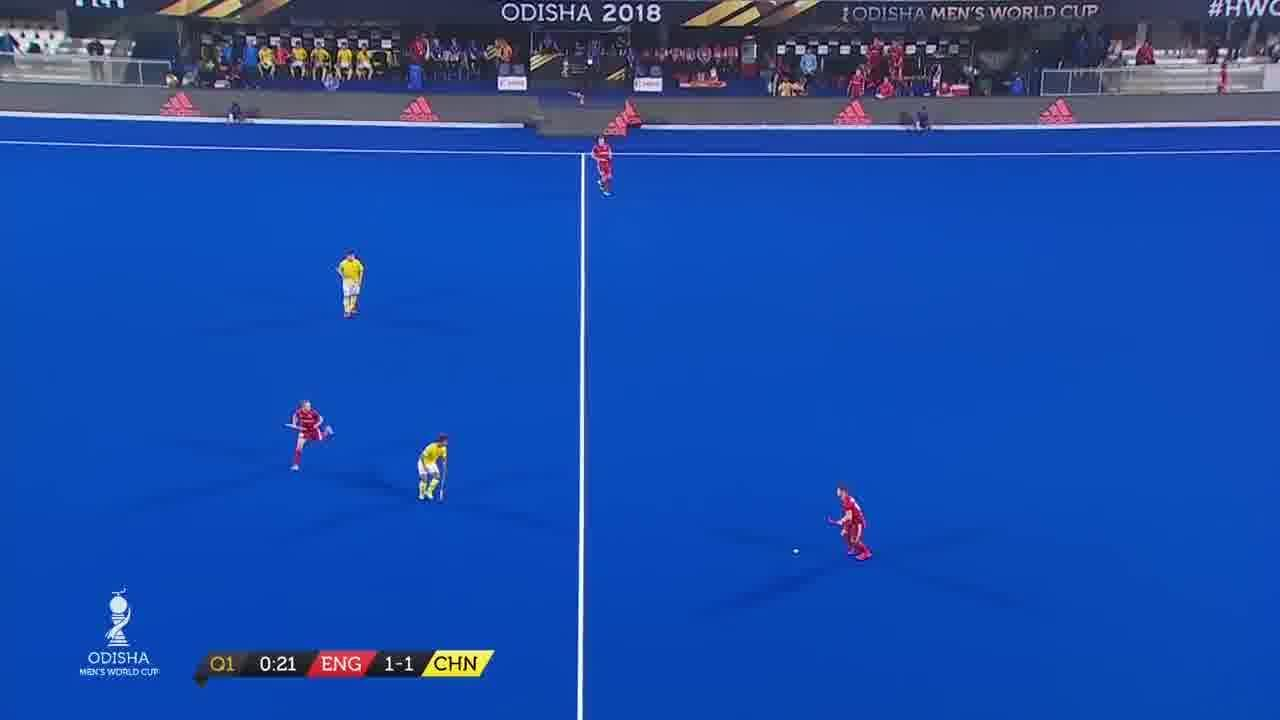ball: (790, 542, 804, 562)
